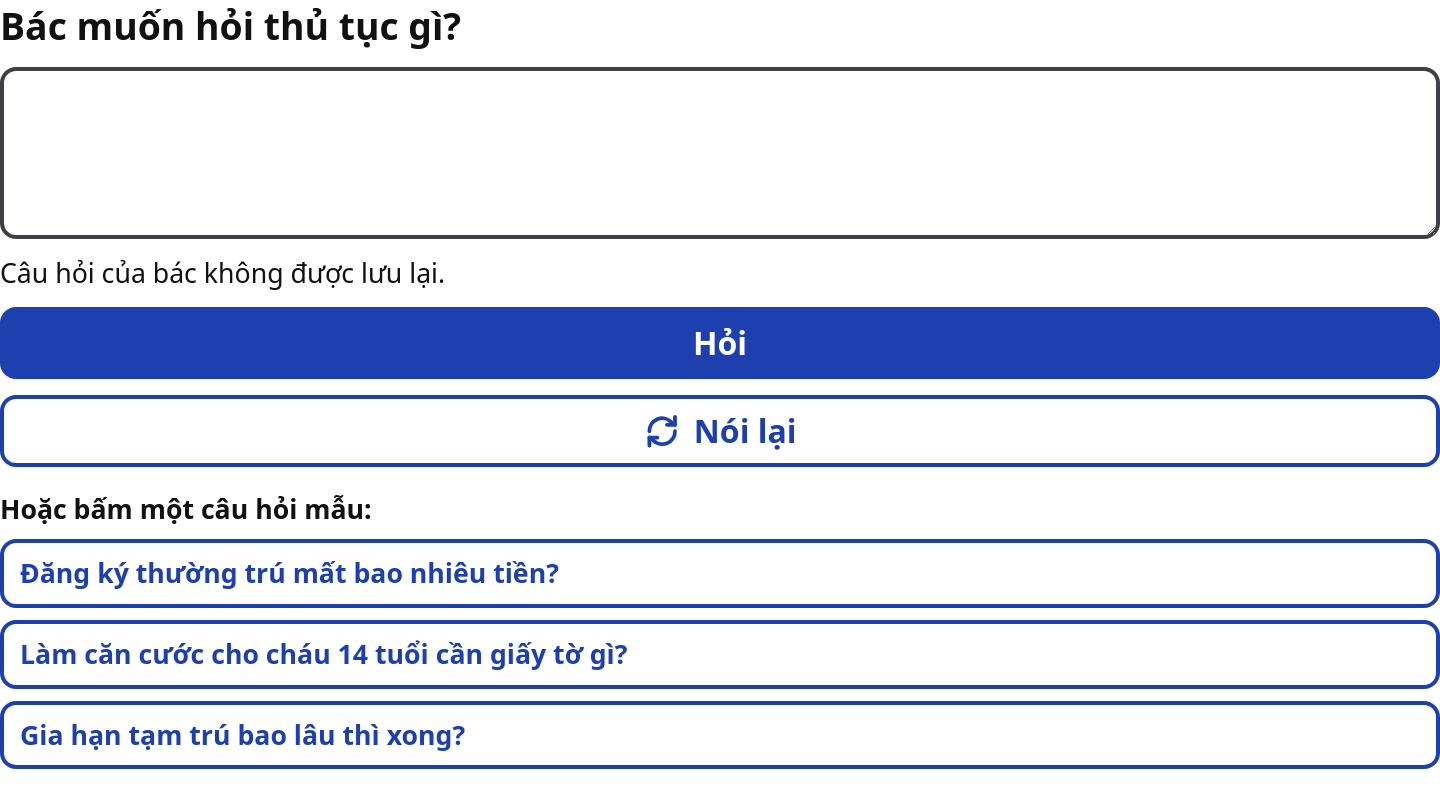
Test: AnswerCard — Nguồn, giấy tờ, escalate, từ chối › escalate hiện hộp vàng, không có nút hay chữ giả vờ đã báo
Type "Thủ tục lạ cần gì?" into the text box with test id "ask-input" at (720, 153), box [0,67,1439,239]
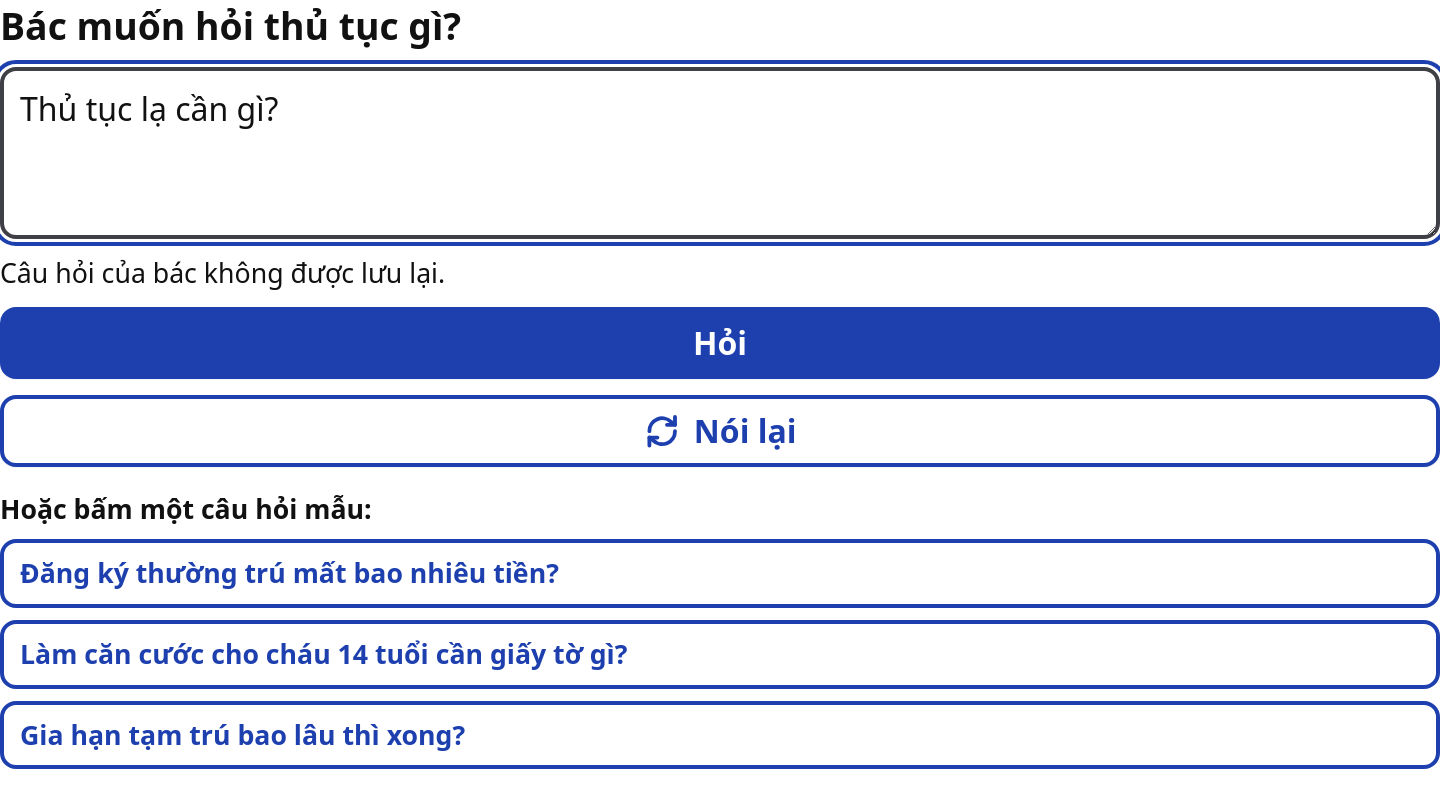
Click the button with test id "ask-submit" at (720, 343), box [0,307,1439,379]
(page scrolled)
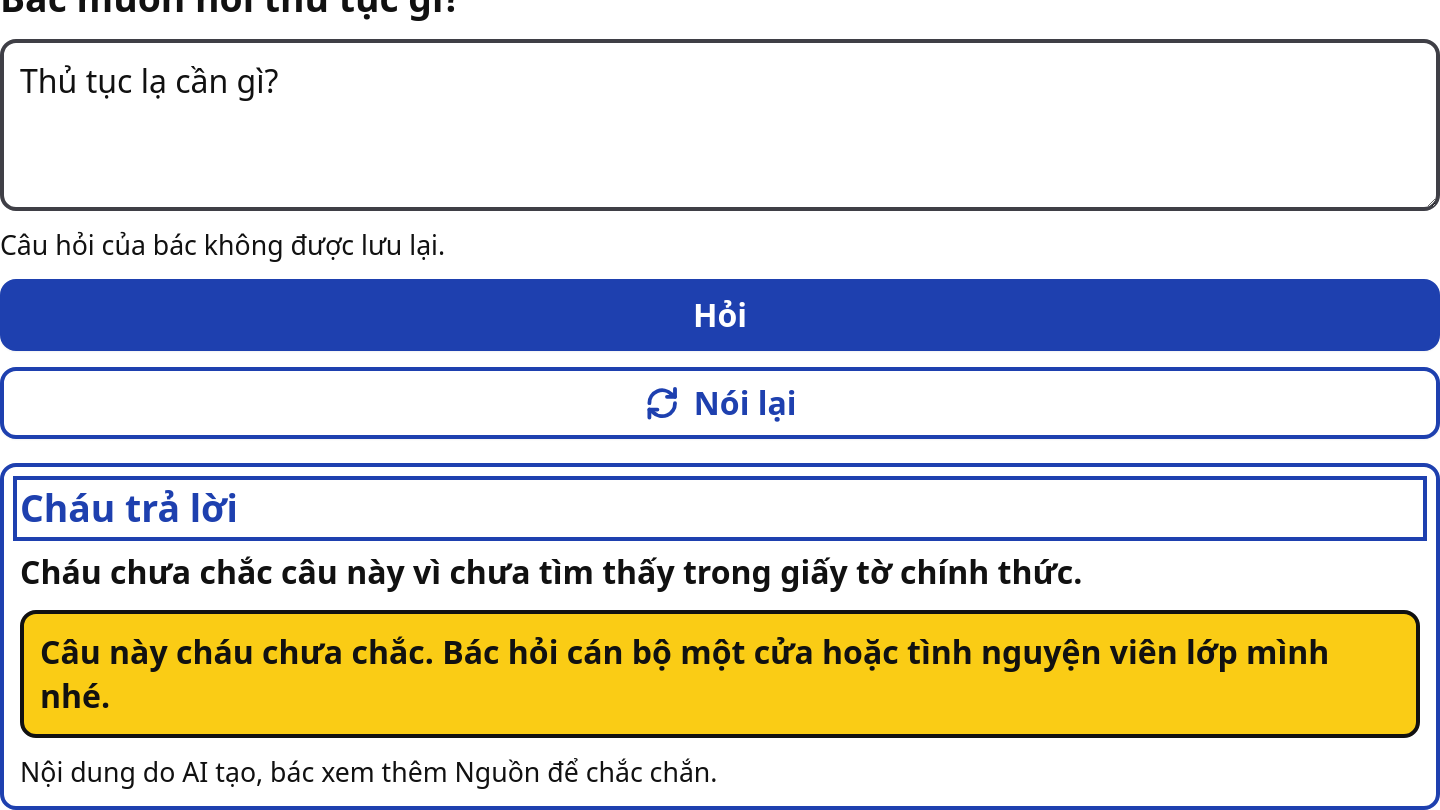
Expected: the text with test id "escalate-box" shows "Câu này cháu chưa chắc. Bác hỏi cán bộ một cửa hoặc tình nguyện viên lớp mình nhé.", [40,630,1329,717]
Expected: the button "Đăng ký thường trú mất bao nhiêu tiền?" is gone
